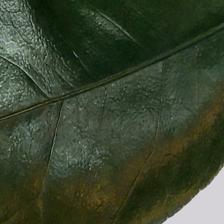healthy: (1, 0, 223, 222)
